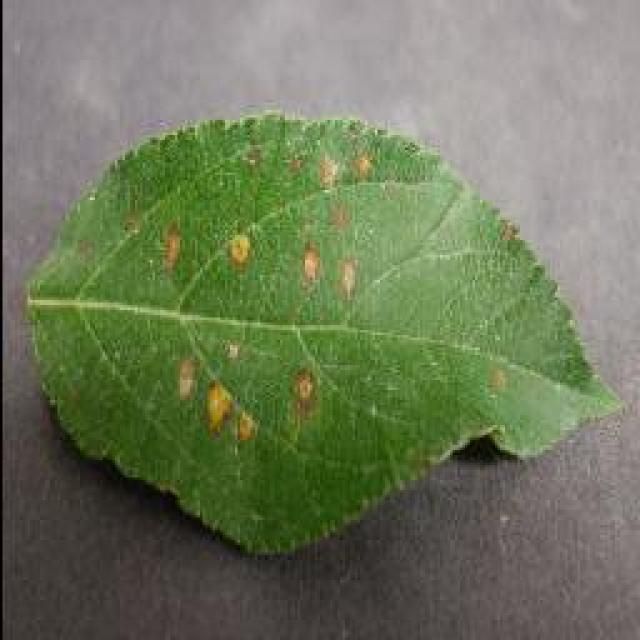apple healthy: (23, 108, 625, 558)
